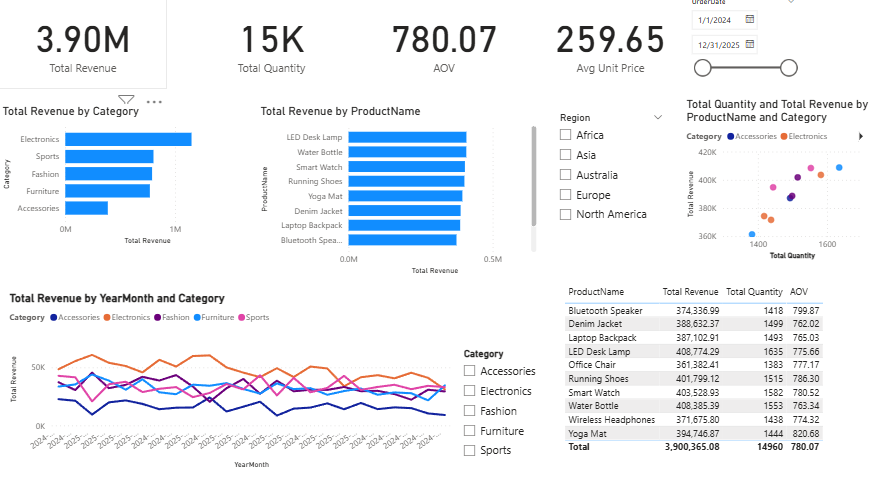

What the dashboard file says about the page in this screenshot:
{"tool":"powerbi","page":{"name":"Product Perfomance","canvas":[1280,720],"ordinal":2},"visuals":[{"type":"card","fields":{"Values":["Ecommerce_Sales_Dataset_PowerBI.Total Revenue"]},"box":[0,0,245.9,139],"z":0},{"type":"card","fields":{"Values":["Ecommerce_Sales_Dataset_PowerBI.Total Quantity"]},"box":[259,0,279.5,139],"z":1000},{"type":"card","fields":{"Values":["Ecommerce_Sales_Dataset_PowerBI.AOV"]},"box":[526.8,0,248.8,139],"z":2000},{"type":"card","fields":{"Values":["Ecommerce_Sales_Dataset_PowerBI.Avg Unit Price"]},"box":[755.1,0,279.5,139],"z":3000},{"type":"clusteredBarChart","fields":{"Category":["Ecommerce_Sales_Dataset_PowerBI.Category"],"Y":["Ecommerce_Sales_Dataset_PowerBI.Total Revenue"]},"box":[0,161,357.1,210.7],"z":4000},{"type":"clusteredBarChart","fields":{"Category":["Ecommerce_Sales_Dataset_PowerBI.ProductName"],"Y":["Ecommerce_Sales_Dataset_PowerBI.Total Revenue"]},"box":[377.6,161,414.1,254.6],"z":5000},{"type":"scatterChart","fields":{"X":["Ecommerce_Sales_Dataset_PowerBI.Total Quantity"],"Y":["Ecommerce_Sales_Dataset_PowerBI.Total Revenue"],"Series":["Ecommerce_Sales_Dataset_PowerBI.Category"],"Category":["Ecommerce_Sales_Dataset_PowerBI.ProductName"]},"box":[1001,150.7,279.5,242.9],"z":6000},{"type":"lineChart","fields":{"Category":["Ecommerce_Sales_Dataset_PowerBI.YearMonth"],"Y":["Ecommerce_Sales_Dataset_PowerBI.Total Revenue"],"Series":["Ecommerce_Sales_Dataset_PowerBI.Category"]},"box":[10.2,434.6,657.1,264.9],"z":7000},{"type":"slicer","fields":{"Values":["Ecommerce_Sales_Dataset_PowerBI.OrderDate"]},"box":[1001,0,175.6,139],"z":8000},{"type":"slicer","fields":{"Values":["Ecommerce_Sales_Dataset_PowerBI.Category"]},"box":[667.3,513.7,149.3,185.9],"z":9000},{"type":"slicer","fields":{"Values":["Ecommerce_Sales_Dataset_PowerBI.Region"]},"box":[807.8,168.3,175.6,196.1],"z":10000},{"type":"tableEx","fields":{"Values":["Ecommerce_Sales_Dataset_PowerBI.ProductName","Ecommerce_Sales_Dataset_PowerBI.Total Revenue","Ecommerce_Sales_Dataset_PowerBI.Total Quantity","Ecommerce_Sales_Dataset_PowerBI.AOV"]},"box":[822.4,420,458,300],"z":11000}]}

Visuals, with their boxes in screenshot pixels (x1, y1, x2, y2), scaled from the page's 1280x720 canvas onto the 873x486 screenshot:
card - Ecommerce_Sales_Dataset_PowerBI.Total Revenue: left=0, top=0, right=168, bottom=94
card - Ecommerce_Sales_Dataset_PowerBI.Total Quantity: left=177, top=0, right=367, bottom=94
card - Ecommerce_Sales_Dataset_PowerBI.AOV: left=359, top=0, right=529, bottom=94
card - Ecommerce_Sales_Dataset_PowerBI.Avg Unit Price: left=515, top=0, right=706, bottom=94
clusteredBarChart - Ecommerce_Sales_Dataset_PowerBI.Category x Ecommerce_Sales_Dataset_PowerBI.Total Revenue: left=0, top=109, right=244, bottom=251
clusteredBarChart - Ecommerce_Sales_Dataset_PowerBI.ProductName x Ecommerce_Sales_Dataset_PowerBI.Total Revenue: left=258, top=109, right=540, bottom=281
scatterChart - Ecommerce_Sales_Dataset_PowerBI.Total Quantity x Ecommerce_Sales_Dataset_PowerBI.Total Revenue: left=683, top=102, right=872, bottom=266
lineChart - Ecommerce_Sales_Dataset_PowerBI.YearMonth x Ecommerce_Sales_Dataset_PowerBI.Total Revenue: left=7, top=293, right=455, bottom=472
slicer - Ecommerce_Sales_Dataset_PowerBI.OrderDate: left=683, top=0, right=802, bottom=94
slicer - Ecommerce_Sales_Dataset_PowerBI.Category: left=455, top=347, right=557, bottom=472
slicer - Ecommerce_Sales_Dataset_PowerBI.Region: left=551, top=114, right=671, bottom=246
tableEx - Ecommerce_Sales_Dataset_PowerBI.ProductName x Ecommerce_Sales_Dataset_PowerBI.Total Revenue: left=561, top=284, right=872, bottom=485
